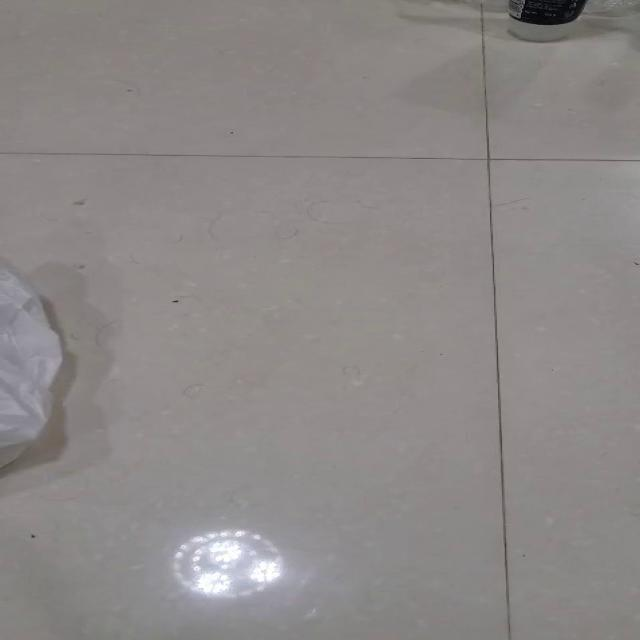plastic: (0, 260, 64, 467)
